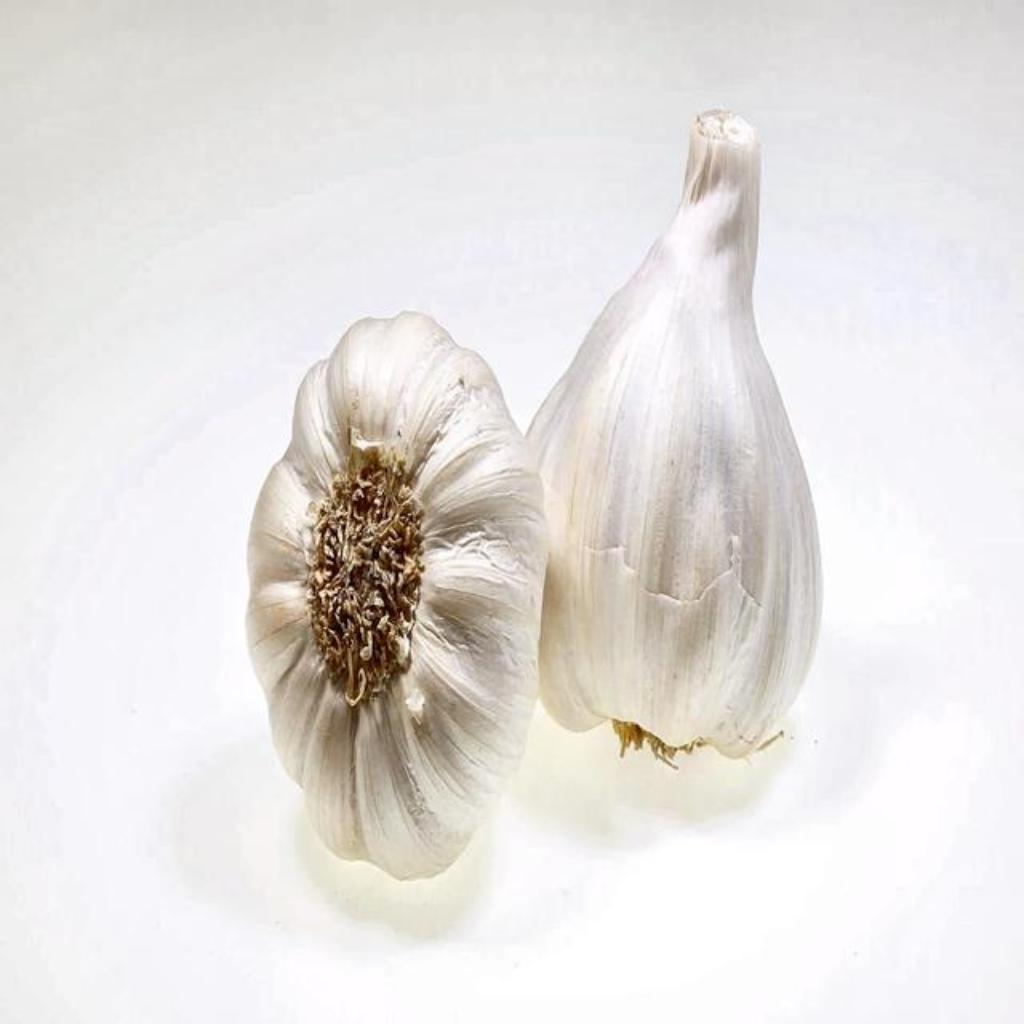garlic: (528, 110, 820, 756), (248, 312, 546, 878)
